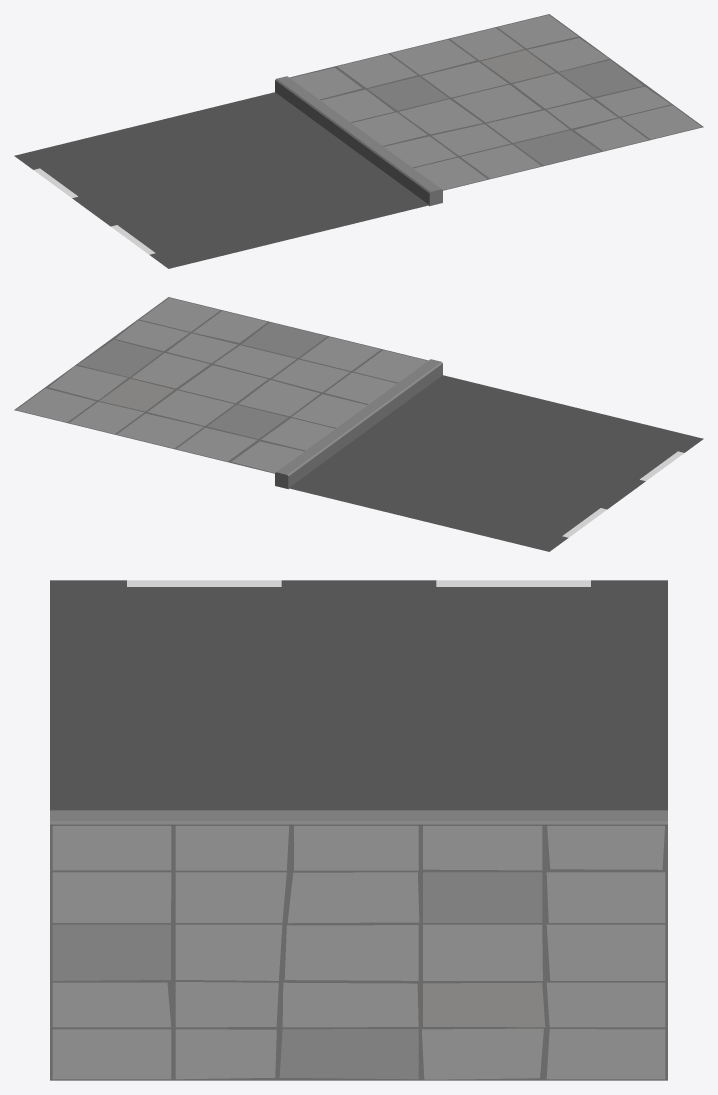
Rendered from Road_02.glb.
The picture shows the model from 3 angles, top to bottom: view 1: azimuth 30°, elevation 25°; view 2: azimuth 150°, elevation 25°; view 3: azimuth 270°, elevation 25°; orthographic projection. The views are drawn at different scales.
Visible parts, largest first — view 1: Road_02; view 2: Road_02; view 3: Road_02.
Boxes of the visible parts, <box> form: Road_02: <box>14,14,703,268</box>; Road_02: <box>14,297,703,551</box>; Road_02: <box>50,580,667,1080</box>.
Bounding box in the file's own units: 6 × 0.15 × 3.
Materials: 1 (1 with a texture image).
